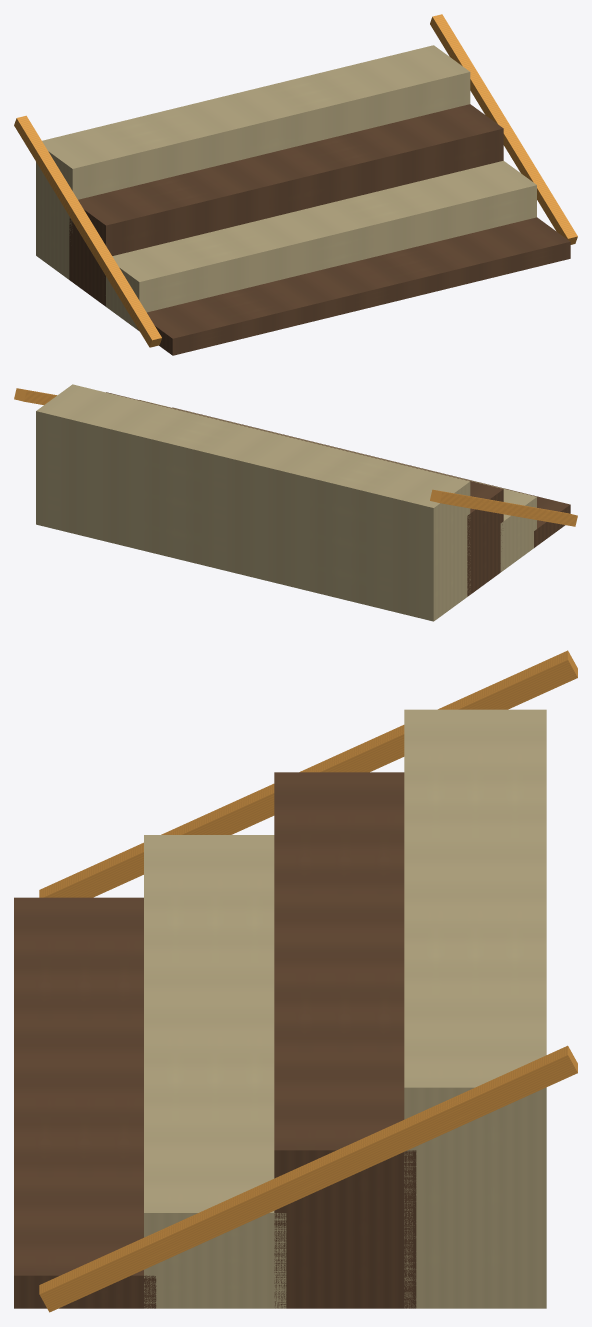
Rendered from atlas100-s011-a10.glb.
3 renders of one model, top to bottom at view 1: azimuth 30°, elevation 25°; view 2: azimuth 150°, elevation 25°; view 3: azimuth 270°, elevation 25°, orthographic. The views are drawn at different scales.
Visible parts, largest first — view 1: atlas100-s011-a10:part-003, atlas100-s011-a10:part-002, atlas100-s011-a10:part-001, atlas100-s011-a10:part-000, atlas100-s011-a10:part-004, atlas100-s011-a10:part-005; view 2: atlas100-s011-a10:part-003, atlas100-s011-a10:part-002, atlas100-s011-a10:part-001, atlas100-s011-a10:part-004, atlas100-s011-a10:part-000, atlas100-s011-a10:part-005; view 3: atlas100-s011-a10:part-003, atlas100-s011-a10:part-002, atlas100-s011-a10:part-001, atlas100-s011-a10:part-000, atlas100-s011-a10:part-005, atlas100-s011-a10:part-004.
Boxes of the visible parts, bbox=[...] form: atlas100-s011-a10:part-003: bbox=[36, 45, 470, 279]; atlas100-s011-a10:part-002: bbox=[69, 104, 503, 306]; atlas100-s011-a10:part-001: bbox=[106, 160, 536, 330]; atlas100-s011-a10:part-000: bbox=[137, 217, 570, 355]; atlas100-s011-a10:part-004: bbox=[14, 115, 161, 347]; atlas100-s011-a10:part-005: bbox=[430, 14, 577, 244]; atlas100-s011-a10:part-003: bbox=[36, 384, 470, 621]; atlas100-s011-a10:part-002: bbox=[106, 392, 503, 596]; atlas100-s011-a10:part-001: bbox=[139, 400, 536, 572]; atlas100-s011-a10:part-004: bbox=[430, 489, 577, 526]; atlas100-s011-a10:part-000: bbox=[172, 407, 570, 547]; atlas100-s011-a10:part-005: bbox=[14, 388, 56, 404]; atlas100-s011-a10:part-003: bbox=[404, 709, 546, 1308]; atlas100-s011-a10:part-002: bbox=[274, 772, 416, 1308]; atlas100-s011-a10:part-001: bbox=[144, 835, 286, 1308]; atlas100-s011-a10:part-000: bbox=[14, 897, 156, 1308]; atlas100-s011-a10:part-005: bbox=[39, 1045, 577, 1312]; atlas100-s011-a10:part-004: bbox=[39, 650, 577, 897].
Bounding box in the file's own units: 2.36 × 0.7246 × 1.39.
3 materials, 3 textured.
